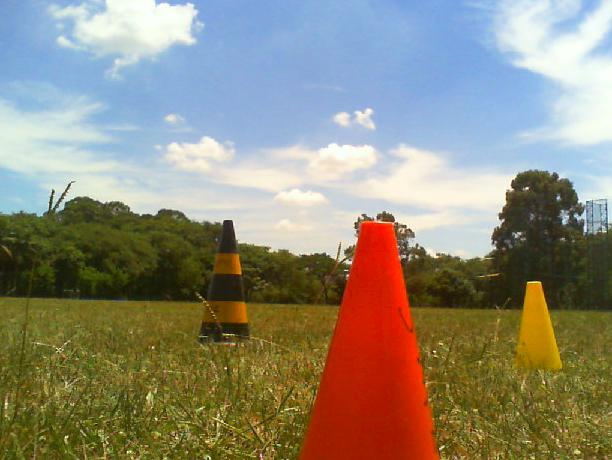0 cone: (299, 221, 444, 460), (197, 218, 252, 341), (509, 280, 564, 370)
